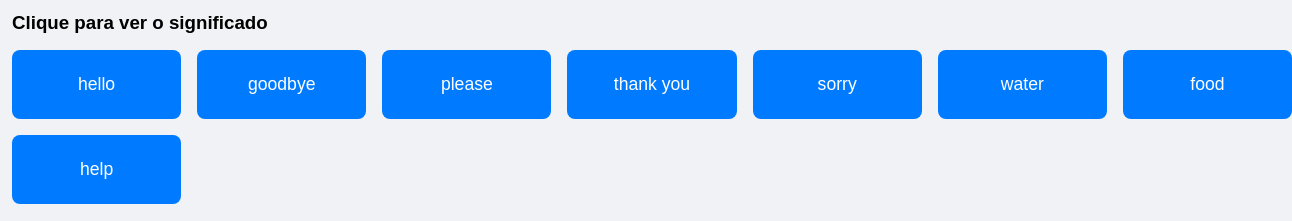
Test case: FlashcardGrid Component › should flip the card to Portuguese when clicked
// Simula um clique do usuário
Click the text "hello": {"x": 97, "y": 84} [12,50,181,119]
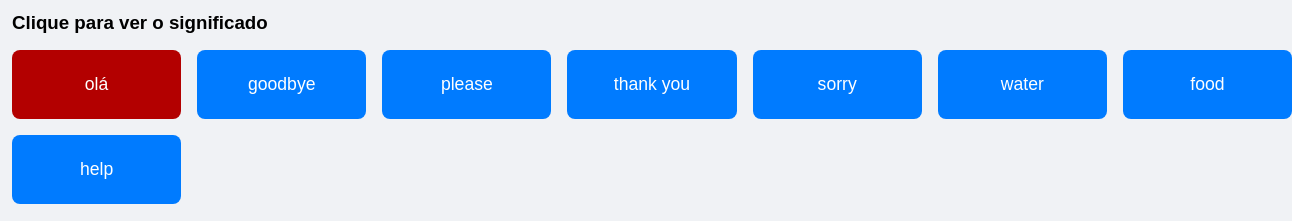
Expected: the text "olá" is shown, [12,50,181,119]
Expected: the text "hello" is gone
